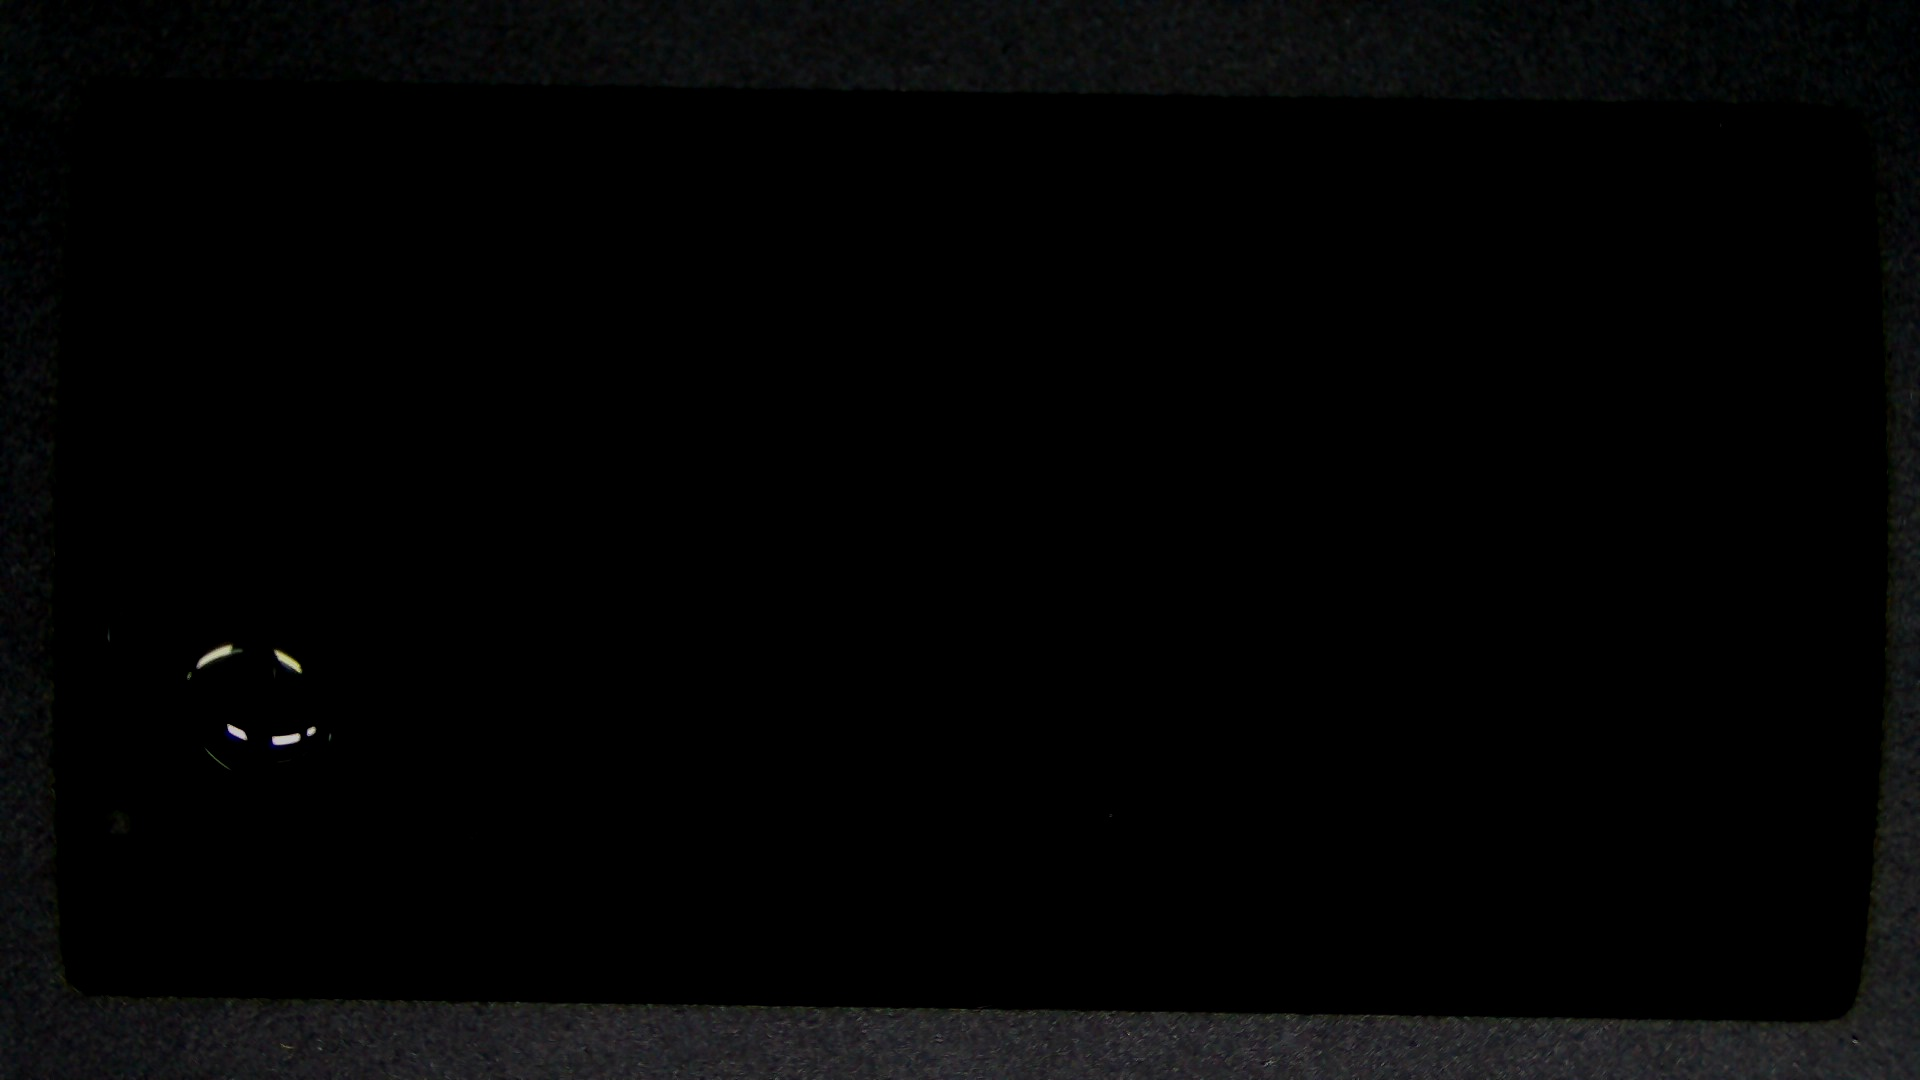oil: (123, 311, 364, 936)
